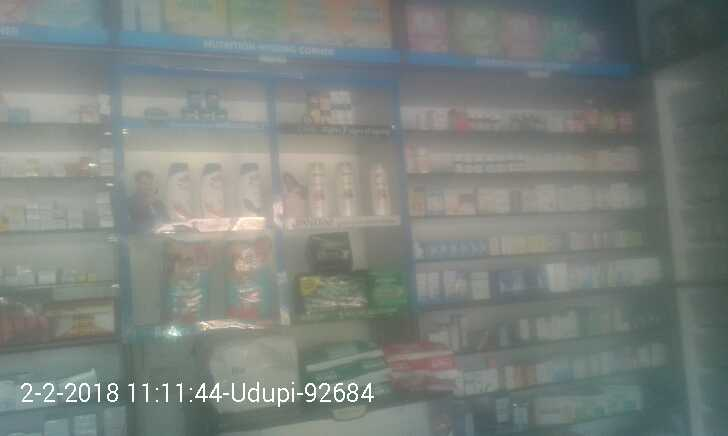beauty: (302, 88, 360, 128), (167, 165, 196, 224), (237, 158, 265, 217), (202, 158, 229, 216), (306, 157, 328, 217), (338, 152, 356, 214), (372, 165, 392, 215)
pharmacy: (220, 242, 279, 325), (168, 245, 210, 328), (297, 269, 361, 309), (367, 261, 408, 309), (309, 227, 353, 260), (181, 110, 232, 121), (177, 85, 202, 105), (203, 90, 224, 107)
